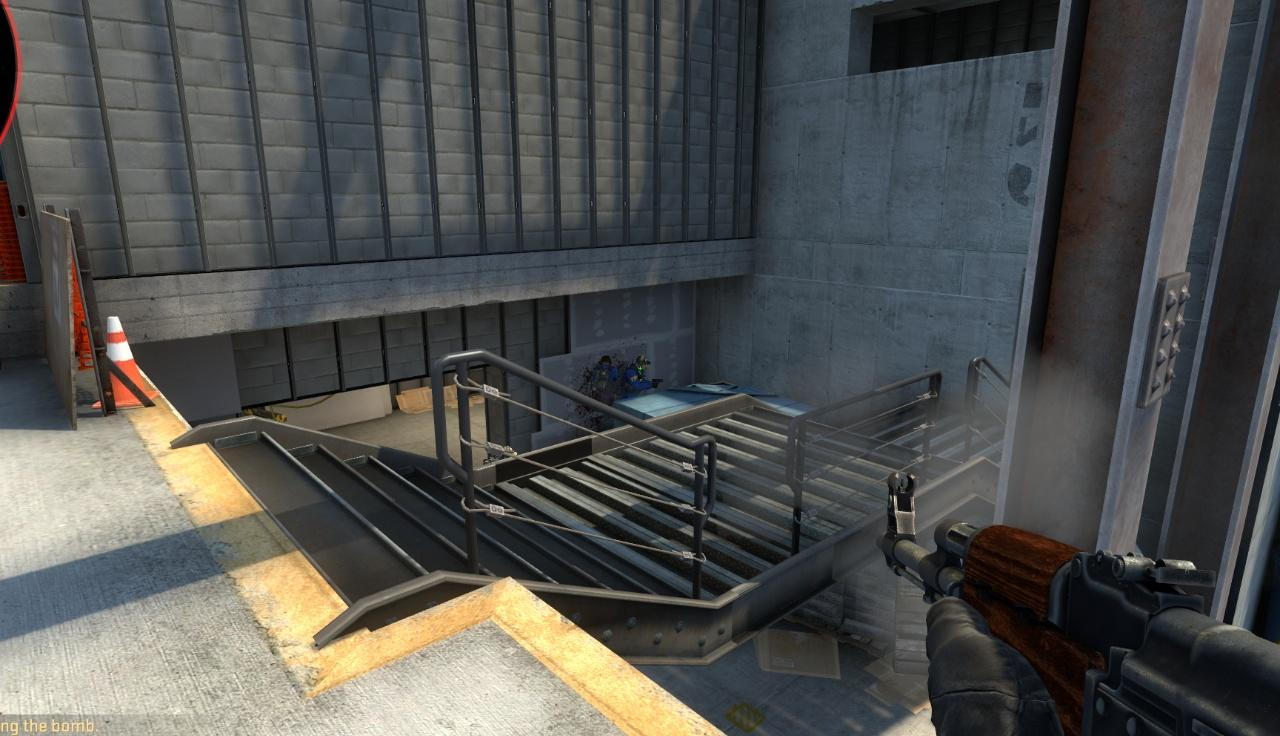ct: (591, 355, 618, 400), (622, 356, 651, 394)
cthead: (636, 356, 649, 371), (599, 355, 612, 365)
rifle: (879, 465, 1280, 736)
